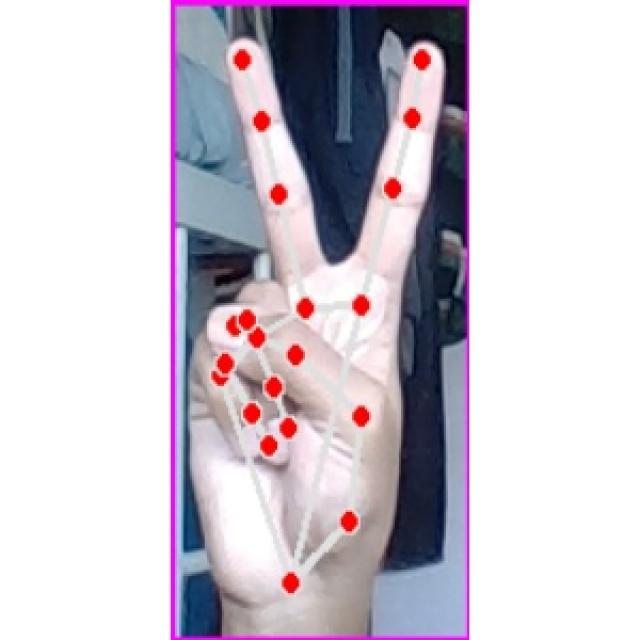V: (194, 31, 441, 600)
